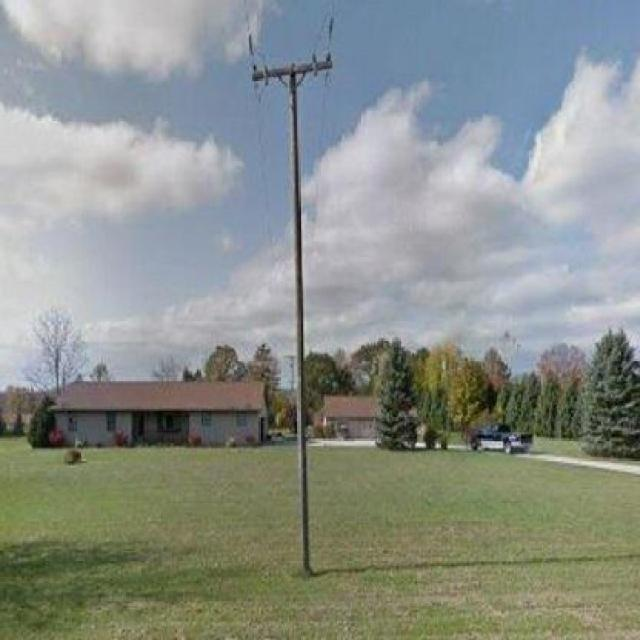pole: (243, 34, 362, 575)
